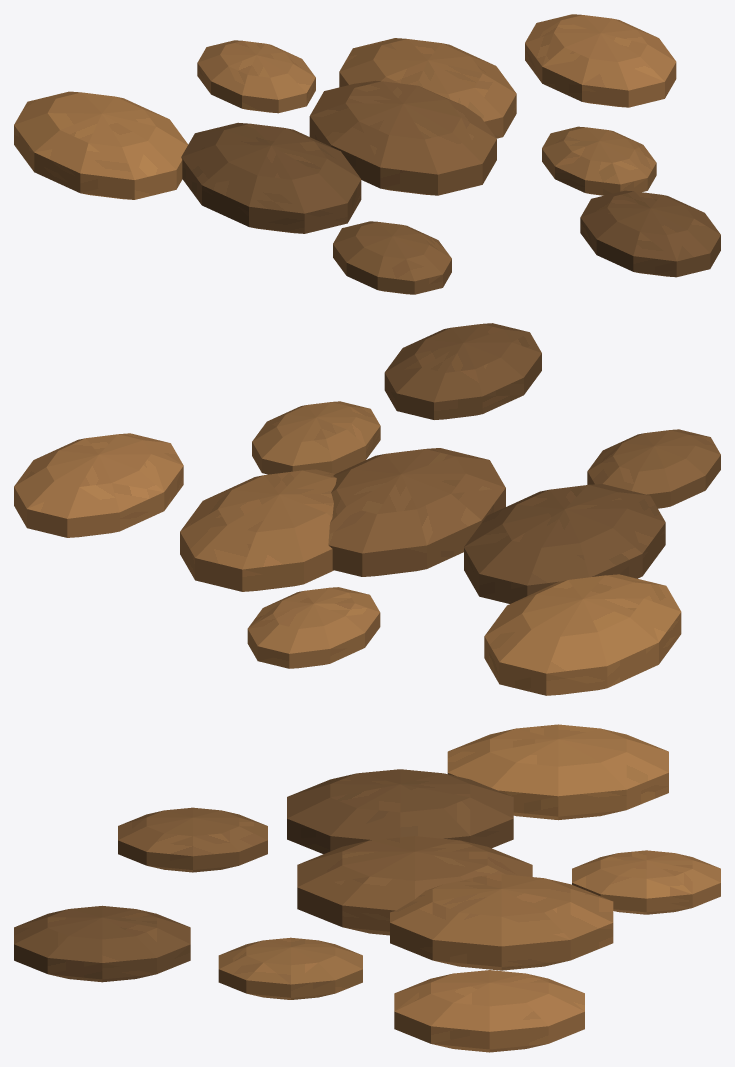
File: seed_oats.glb
The picture shows the model from 3 angles, top to bottom: view 1: azimuth 30°, elevation 25°; view 2: azimuth 150°, elevation 25°; view 3: azimuth 270°, elevation 25°; orthographic projection. The views are drawn at different scales.
Parts seen in each view (by area): view 1: block_grain 0, block_grain 2, block_grain 7, block_grain 6, block_grain 8, block_grain 1, block_grain 5, block_grain 4, block_grain 3; view 2: block_grain 7, block_grain 0, block_grain 2, block_grain 1, block_grain 6, block_grain 8, block_grain 4, block_grain 3, block_grain 5; view 3: block_grain 1, block_grain 7, block_grain 2, block_grain 0, block_grain 6, block_grain 8, block_grain 5, block_grain 3, block_grain 4.
Part boxes in pixels (x1,y1,x2,y2): block_grain 0: (309,80,496,195); block_grain 2: (181,122,361,233); block_grain 7: (14,91,188,199); block_grain 6: (525,14,676,107); block_grain 8: (580,190,720,277); block_grain 1: (339,38,516,138); block_grain 5: (333,221,451,294); block_grain 4: (197,40,315,113); block_grain 3: (542,126,656,195); block_grain 7: (484,574,681,695); block_grain 0: (328,448,505,576); block_grain 2: (464,484,665,603); block_grain 1: (180,469,336,591); block_grain 6: (14,433,183,537); block_grain 8: (384,323,541,419); block_grain 4: (247,587,380,668); block_grain 3: (252,401,380,474); block_grain 5: (587,429,720,508); block_grain 1: (390,874,613,970); block_grain 7: (447,724,668,820); block_grain 2: (287,769,513,853); block_grain 0: (297,836,532,935); block_grain 6: (394,970,584,1052); block_grain 8: (14,905,190,982); block_grain 5: (118,807,267,872); block_grain 3: (218,937,362,999); block_grain 4: (572,850,720,914).
Size of the model in its own units: 0.1099 by 0.0121 by 0.1102.
Materials: 1 (1 with a texture image).
